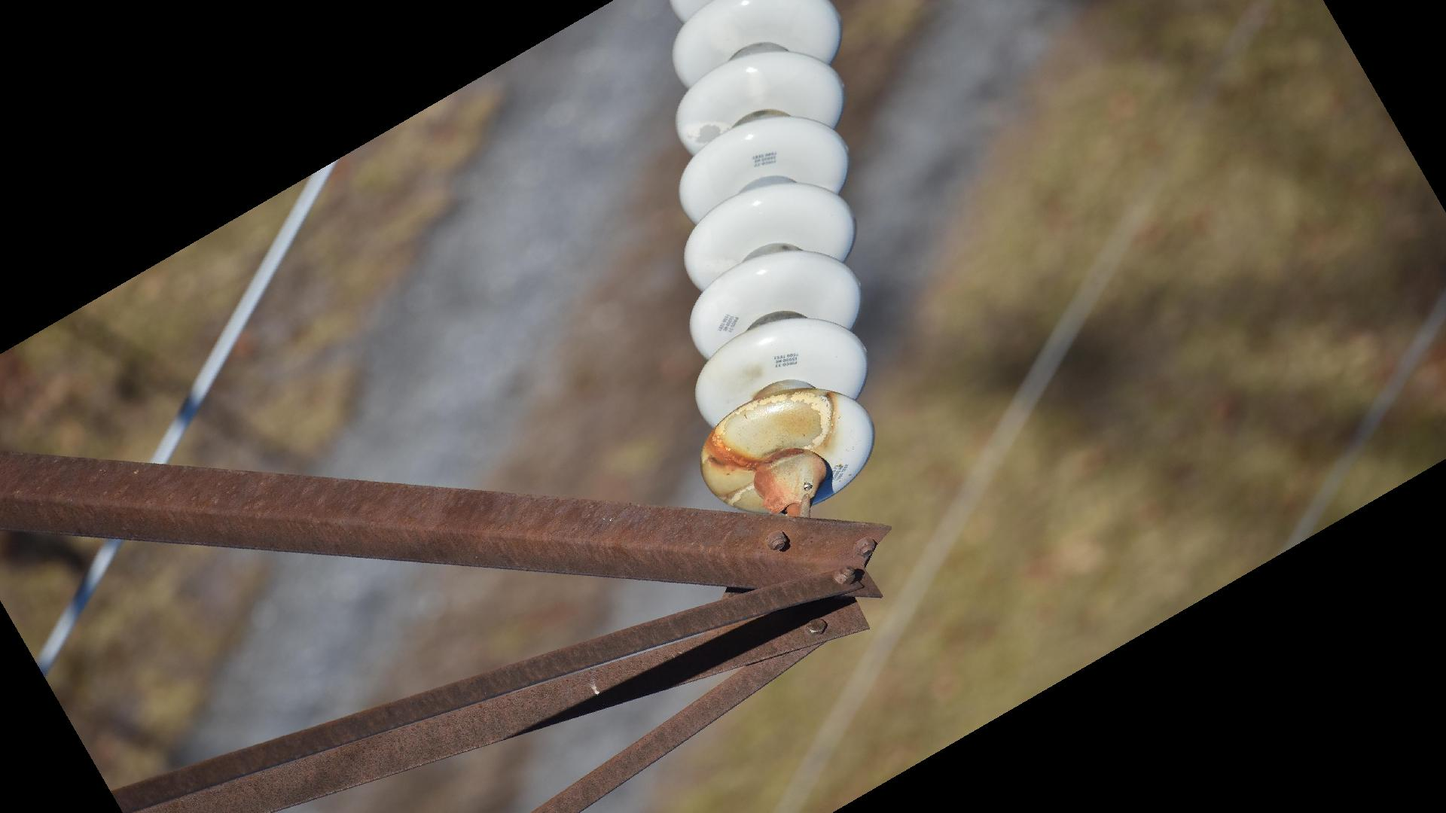insulator: (659, 1, 882, 513)
insulator_flashover: (700, 389, 828, 499), (676, 119, 734, 146)
